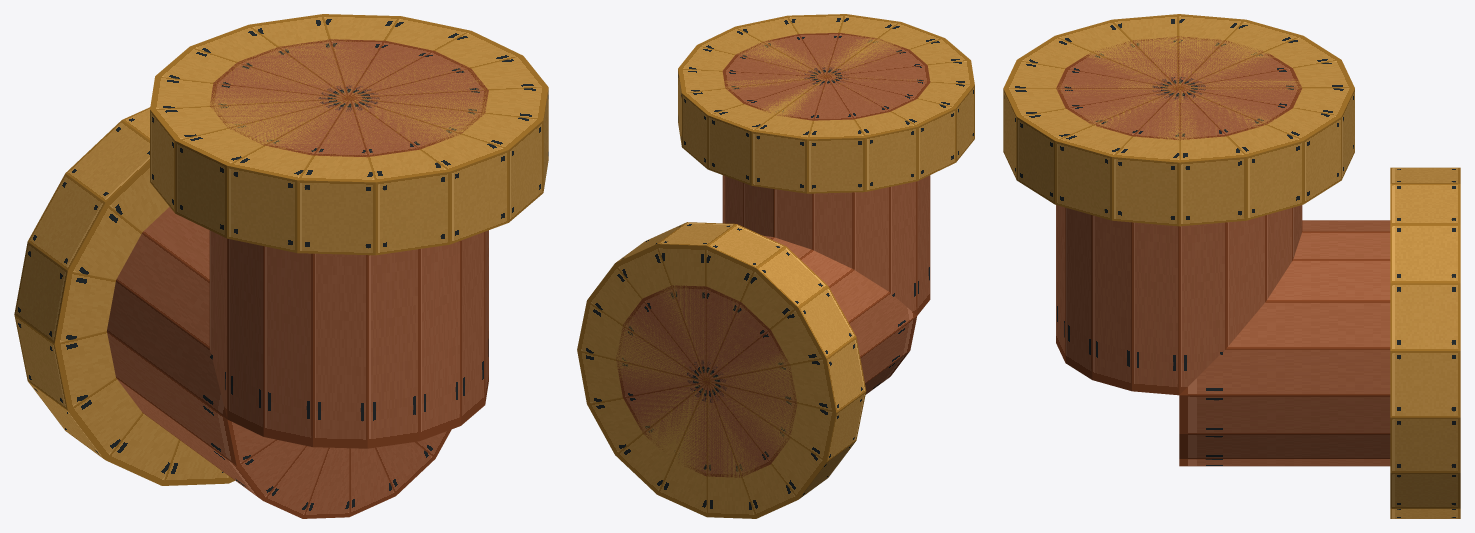
Rendered from detail_pipe_elbow.obj.
3 views of the same model, side by side, from view 1: azimuth 30°, elevation 25°; view 2: azimuth 150°, elevation 25°; view 3: azimuth 270°, elevation 25° (orthographic). The views are drawn at different scales.
Size of the model in its own units: 0.625 by 0.8125 by 0.8125.
